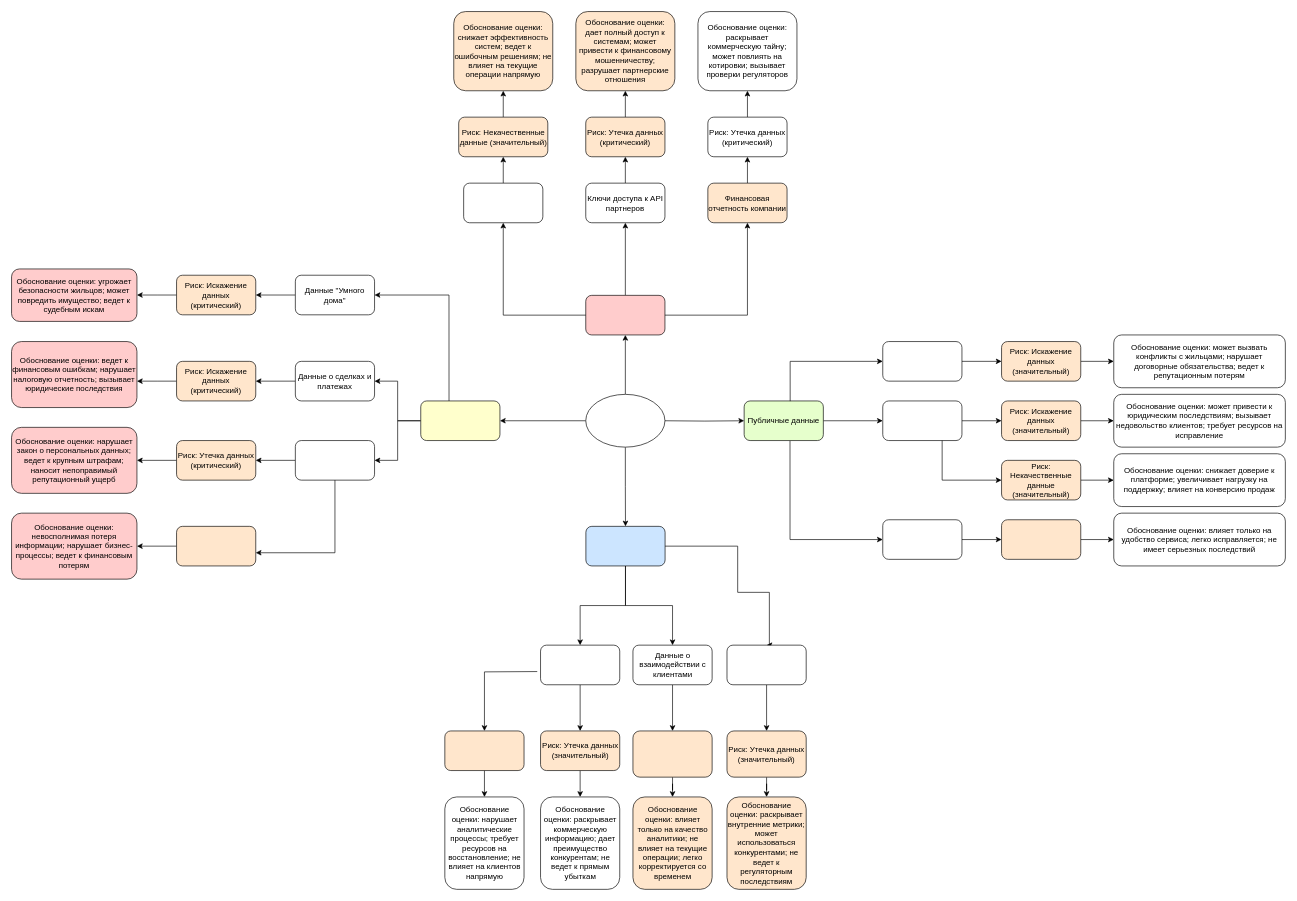
Some shapes in this 1297 by 901 pixel diagram are drawn without their labels. Here are the shapes that lost their labels. From the top down, the centre of each, then its label:
At point (503, 202): "Алгоритмы обработки данных для BI/ML/AI".
At point (625, 315): "Секретные данные".
At point (922, 361): "Информация о запланированных ремонтных работах".
At point (460, 420): "Конфиденциальные данные".
At point (625, 420): "Безопасность данных".
At point (922, 420): "Описание жилых комплексов на витрине продаж".
At point (335, 460): "Персональные данные клиентов (ФИО, контакты)".
At point (216, 546): "Риск: Потеря данных (критический)".
At point (625, 546): "Внутренние данные".
At point (922, 539): "Общая информация об услугах ЖКХ".
At point (1041, 539): "Риск: Некачественные данные (незначительный)".
At point (580, 664): "Статистика бронирований и просмотров".
At point (766, 664): "Внутренние отчеты о работе сервисов".
At point (484, 750): "Риск: Потеря данных (значительный)".
At point (672, 753): "Риск: Обесценивание данных (незначительный)".
